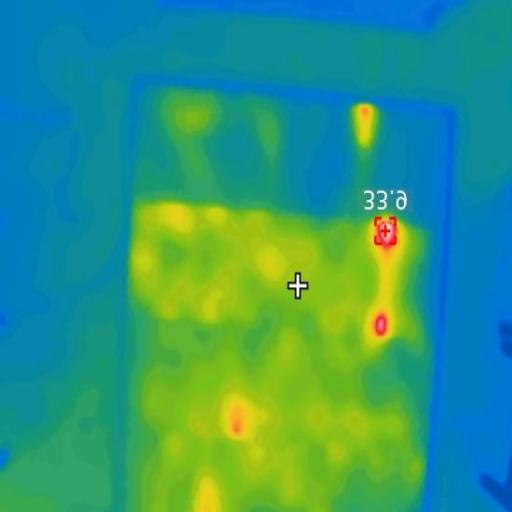hotspot: (370, 213, 405, 244), (372, 310, 392, 340)
